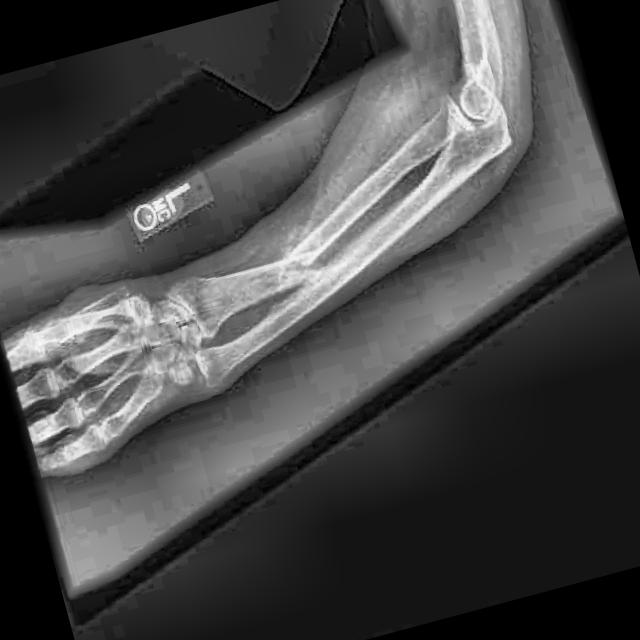forearm fracture: (248, 208, 348, 316)
